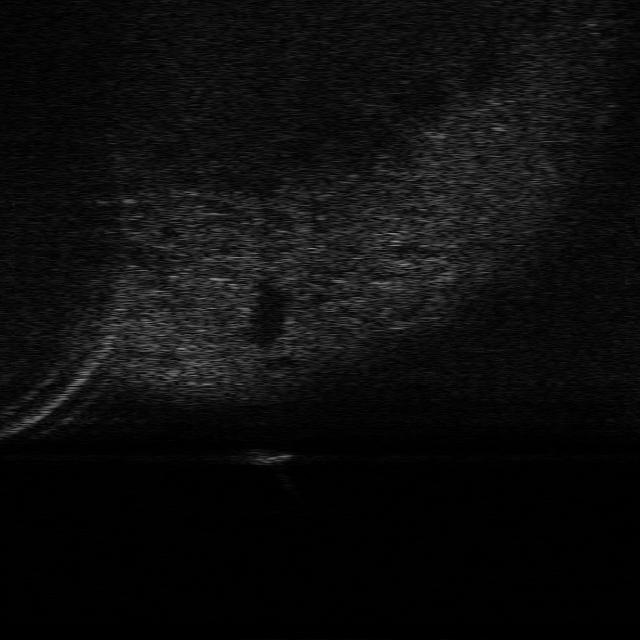cube: (238, 449, 298, 465)
